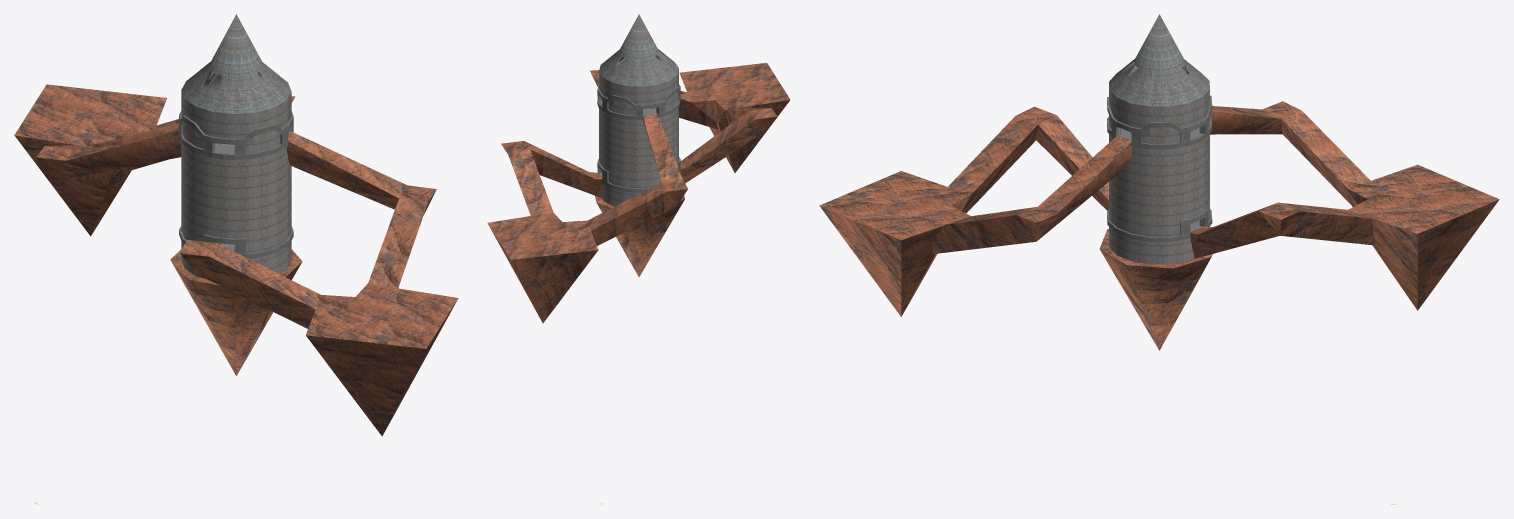
Rendered from JF_Tower_00.fbx.
3 renders of one model, left to right at view 1: azimuth 30°, elevation 25°; view 2: azimuth 150°, elevation 25°; view 3: azimuth 270°, elevation 25°, orthographic. The views are drawn at different scales.
Visible parts, largest first — view 1: Pipe; view 2: Pipe; view 3: Pipe.
Boxes of the visible parts, x1=… form: Pipe: x1=14, y1=14, x2=458, y2=504; Pipe: x1=487, y1=14, x2=790, y2=504; Pipe: x1=819, y1=14, x2=1499, y2=504.
Size of the model in its own units: 70.11 by 141 by 166.
Materials: 9 (9 with a texture image).
